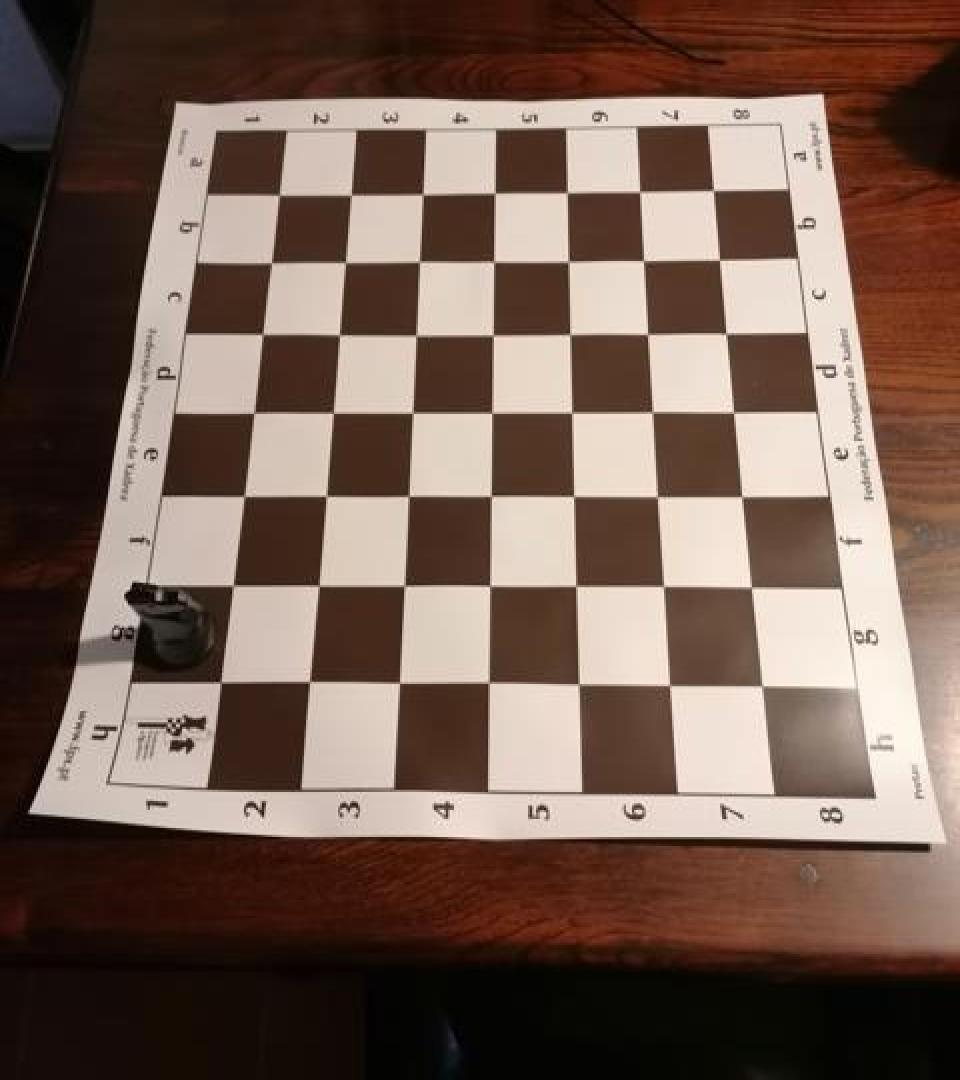xcorner: (378, 661, 410, 698), (287, 660, 319, 697), (699, 171, 731, 207), (625, 171, 657, 207), (552, 171, 584, 207), (479, 172, 511, 208), (407, 172, 439, 208), (335, 172, 367, 208), (263, 173, 295, 209), (705, 238, 737, 274), (629, 238, 661, 274), (553, 238, 585, 274), (478, 238, 510, 274), (403, 240, 435, 276), (328, 240, 360, 276), (254, 240, 286, 276), (712, 312, 744, 348), (633, 312, 665, 348), (554, 312, 586, 348), (476, 312, 508, 348), (398, 312, 430, 348), (321, 312, 353, 348), (244, 312, 276, 348), (720, 389, 752, 425), (638, 389, 670, 425), (556, 389, 588, 425), (475, 389, 507, 425), (394, 388, 426, 424), (314, 388, 346, 424), (234, 388, 266, 424), (728, 475, 760, 511), (643, 474, 675, 510), (558, 474, 590, 510), (473, 472, 505, 508), (389, 472, 421, 508), (306, 472, 338, 508), (223, 472, 255, 508), (737, 566, 769, 602), (648, 566, 680, 602), (559, 565, 591, 601), (471, 564, 503, 600), (384, 564, 416, 600), (297, 562, 329, 598), (210, 562, 242, 598), (747, 666, 779, 702), (654, 665, 686, 701), (561, 664, 593, 700), (469, 662, 501, 698), (197, 659, 229, 695)
